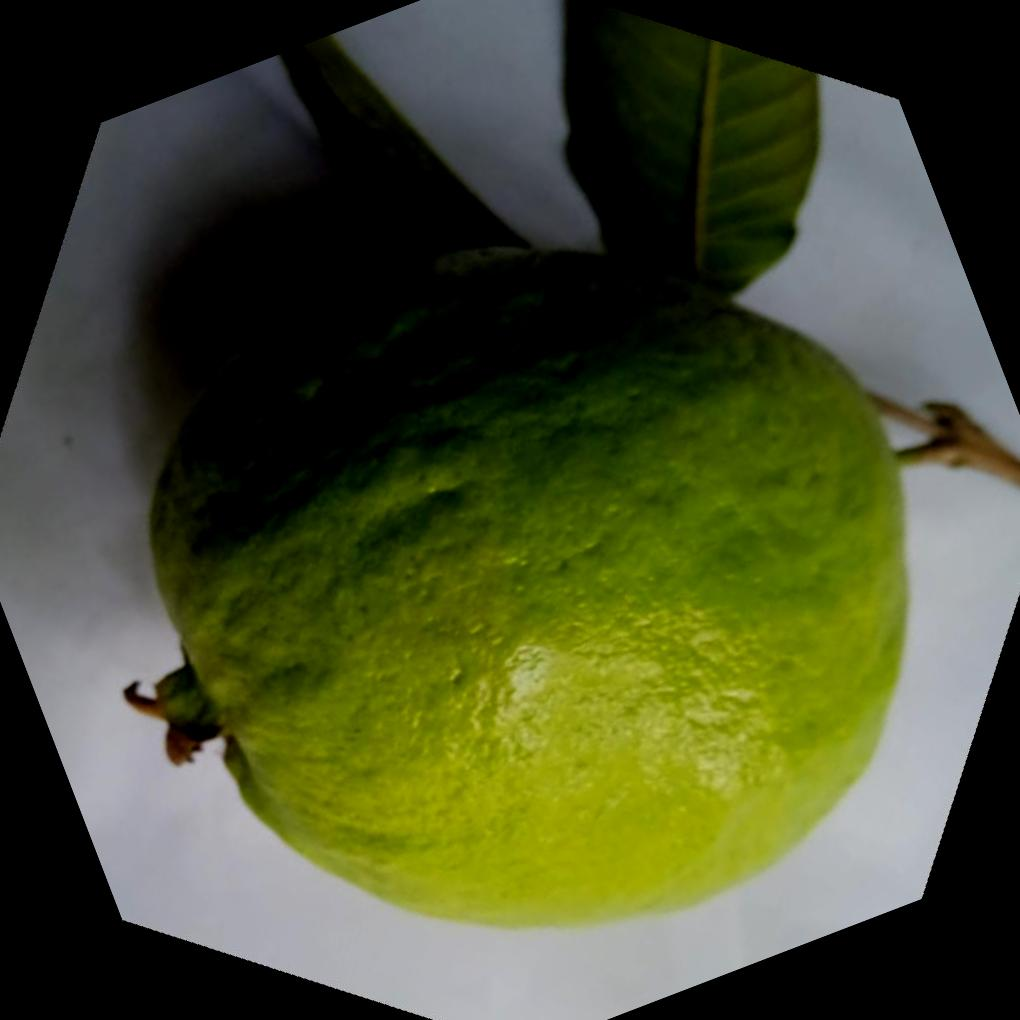FreshGuava: (125, 237, 911, 928)
